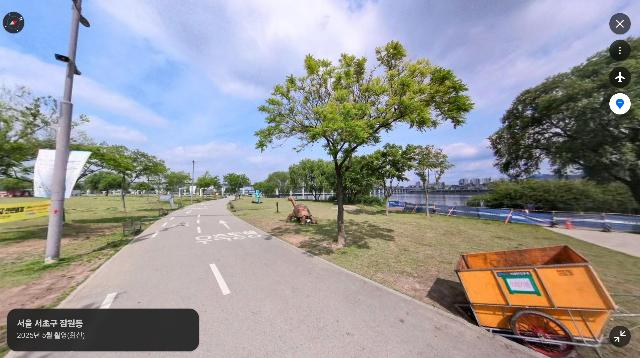other: (253, 40, 475, 248), (487, 41, 640, 209), (0, 80, 95, 182), (96, 144, 171, 212), (390, 143, 455, 216), (361, 142, 414, 216), (287, 156, 334, 203), (260, 170, 296, 202), (82, 170, 122, 197), (153, 168, 181, 203), (224, 172, 253, 199), (193, 171, 215, 200)
